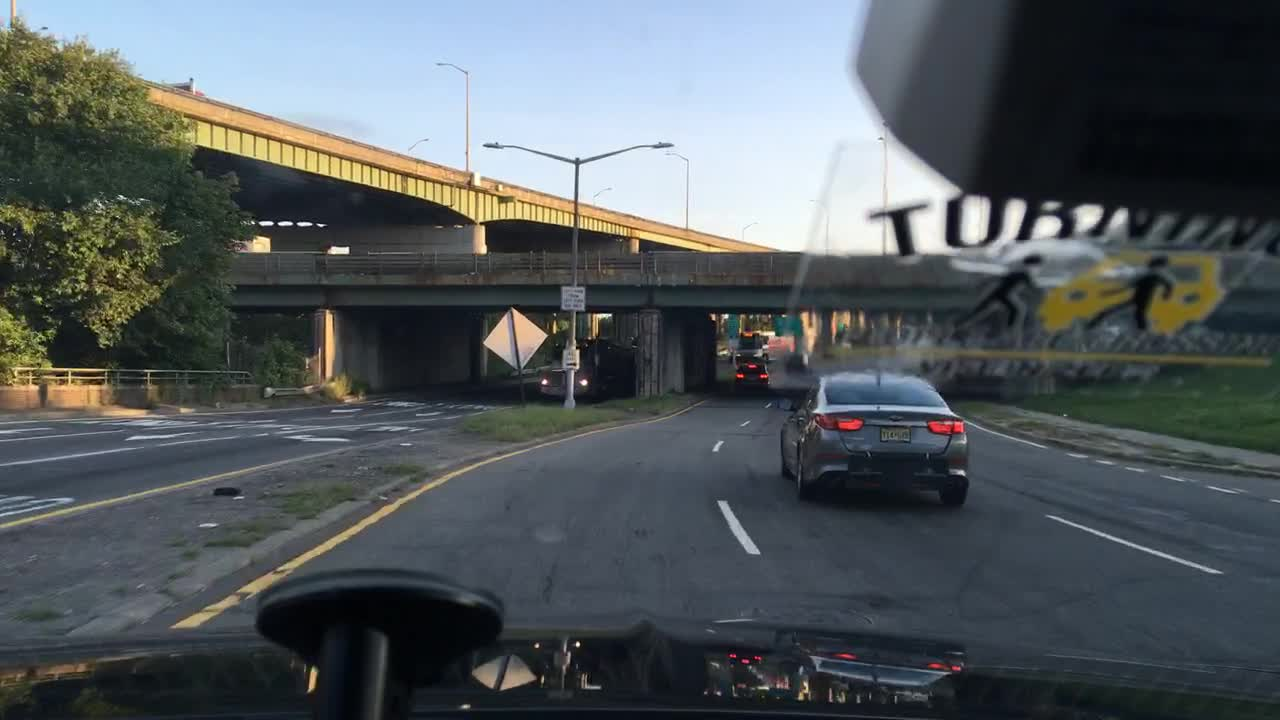car: (780, 366, 971, 505), (536, 353, 602, 400), (730, 333, 769, 364), (735, 359, 773, 390), (786, 350, 809, 372)
traffic sign: (481, 305, 547, 372), (558, 285, 585, 312), (774, 313, 803, 338), (562, 349, 581, 371), (725, 316, 739, 337)
